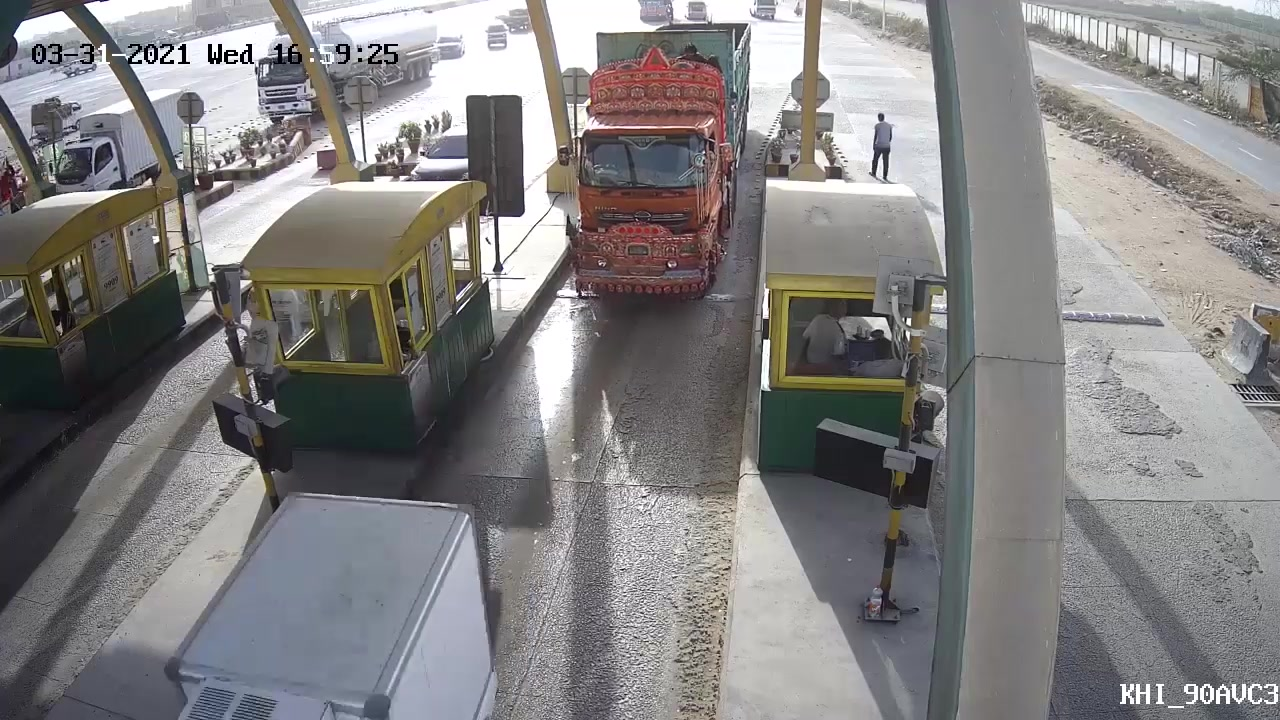F5: (564, 31, 753, 316)
